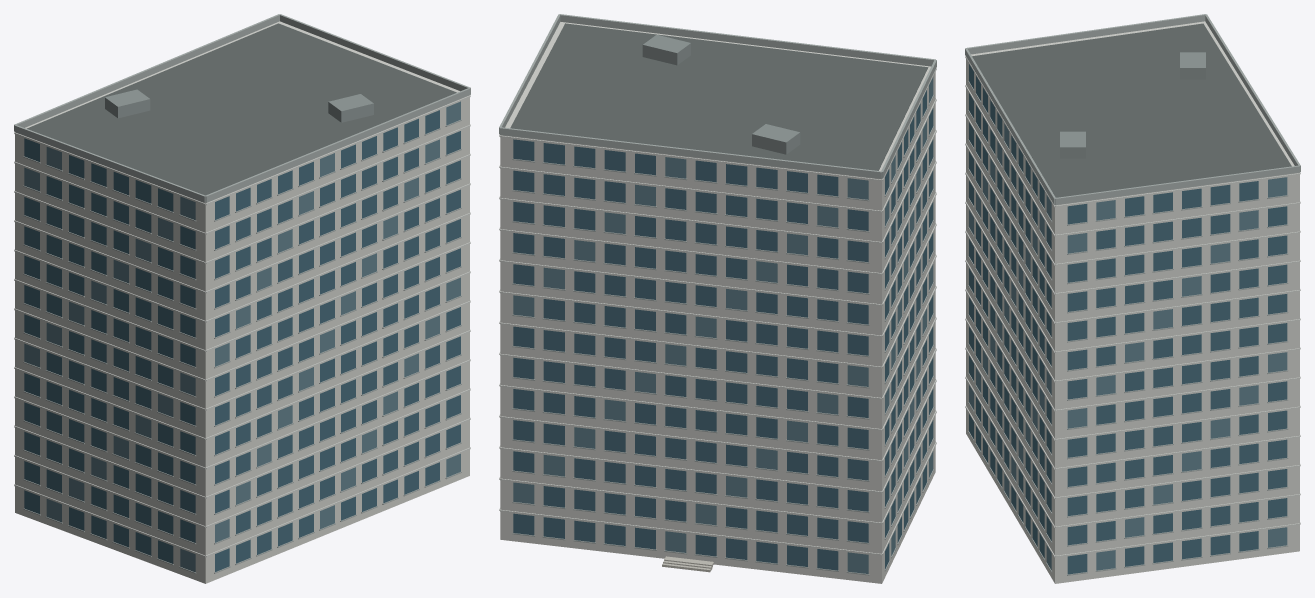
The model's file is 软件园与科创楼-015.glb.
3 renders of one model, left to right at view 1: azimuth 30°, elevation 25°; view 2: azimuth 150°, elevation 25°; view 3: azimuth 270°, elevation 25°, orthographic. The views are drawn at different scales.
Parts seen in each view (by area): view 1: 软件园与科创楼-015; view 2: 软件园与科创楼-015; view 3: 软件园与科创楼-015.
Part boxes in pixels (bbox=[...]): 软件园与科创楼-015: bbox=[14, 14, 470, 583]; 软件园与科创楼-015: bbox=[499, 14, 936, 583]; 软件园与科创楼-015: bbox=[965, 14, 1300, 583].
Bounding box in the file's own units: 47.05 × 46.42 × 36.12.
